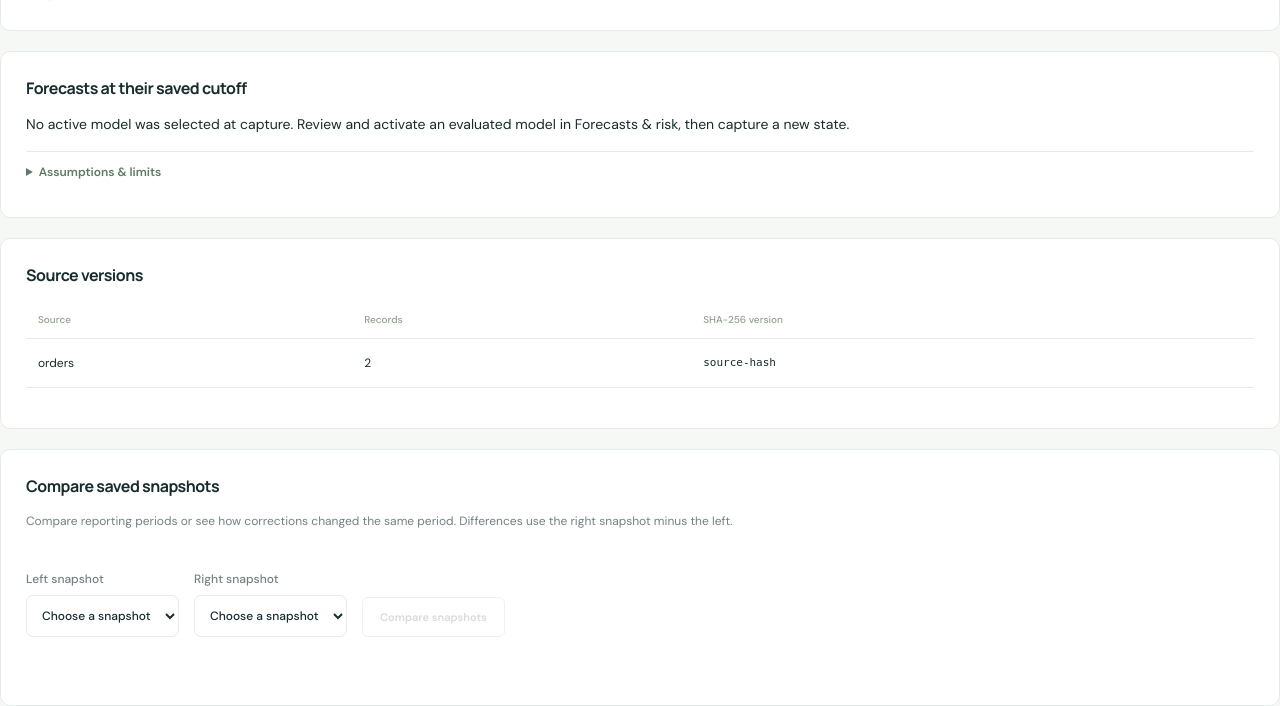
it: Digital twin › compares saved snapshots and labels unequal periods
(page scrolled)
Select "October review" in the dropdown labelled "Left snapshot" at (102, 616), box [26, 595, 179, 637]
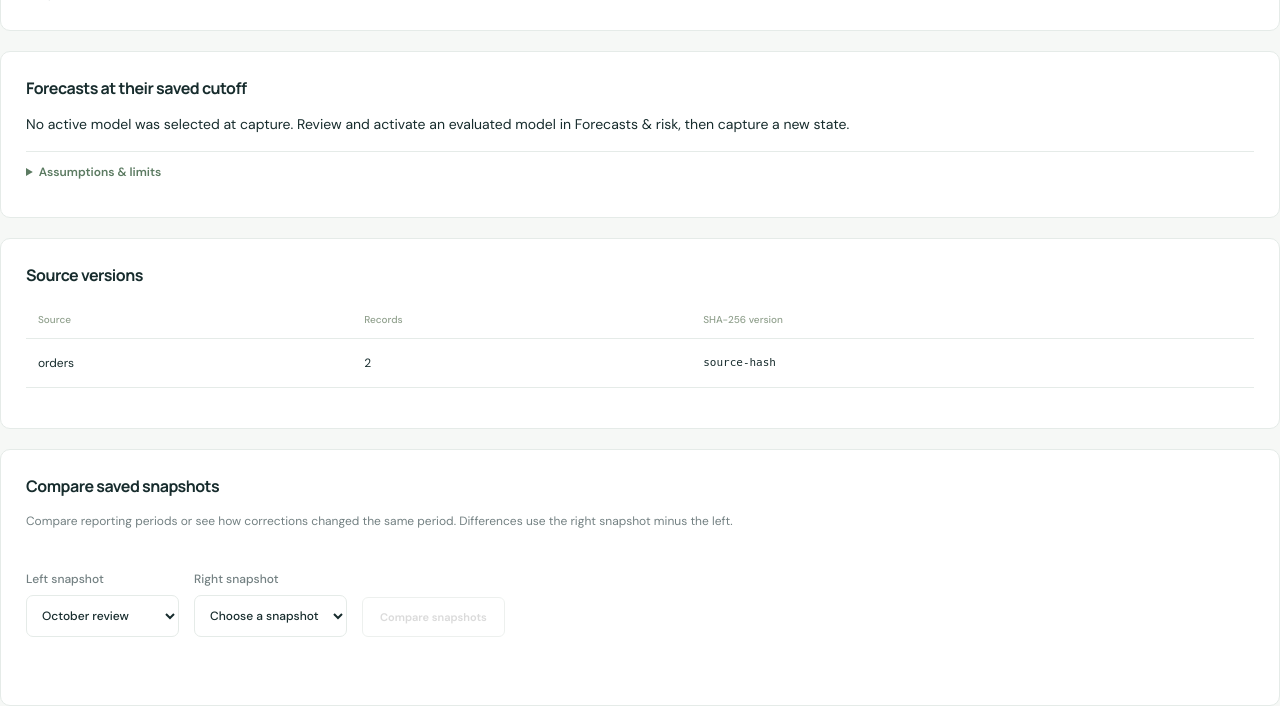
Select "Next review" in the dropdown labelled "Right snapshot" at (270, 616), box [194, 595, 347, 637]
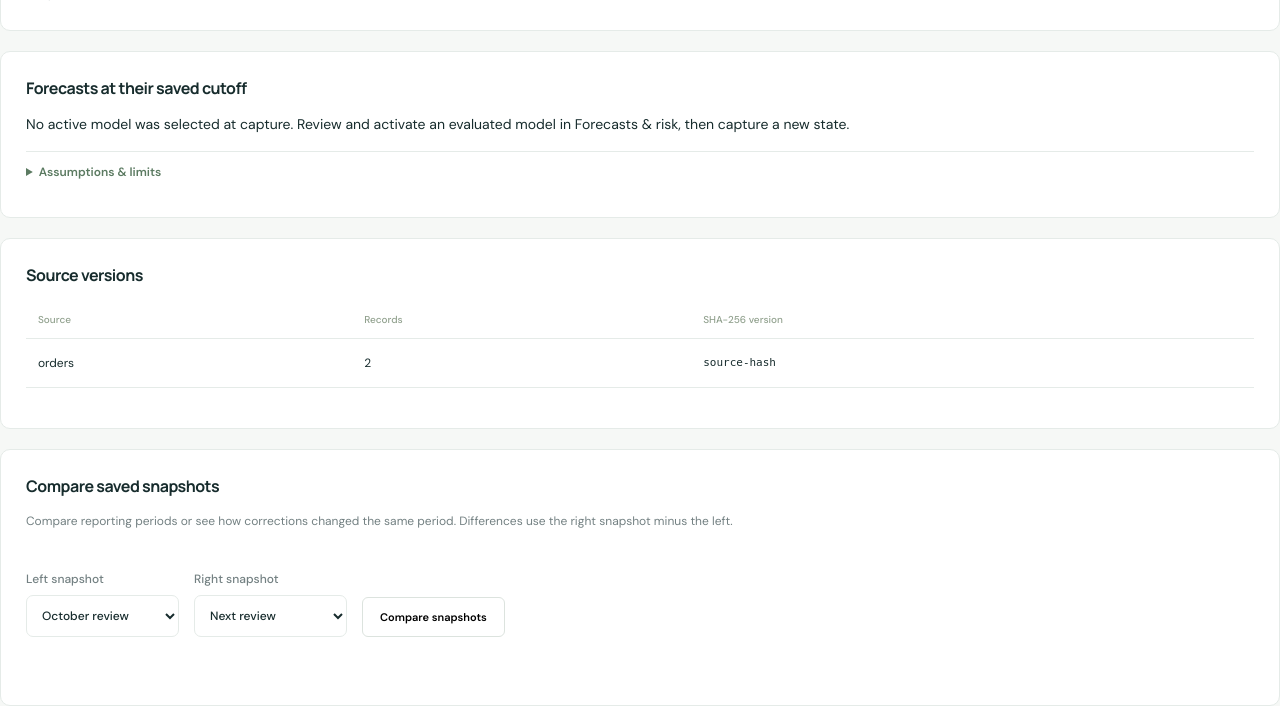
Click the button "Compare snapshots" at (433, 617), box [362, 597, 505, 637]
(page scrolled)
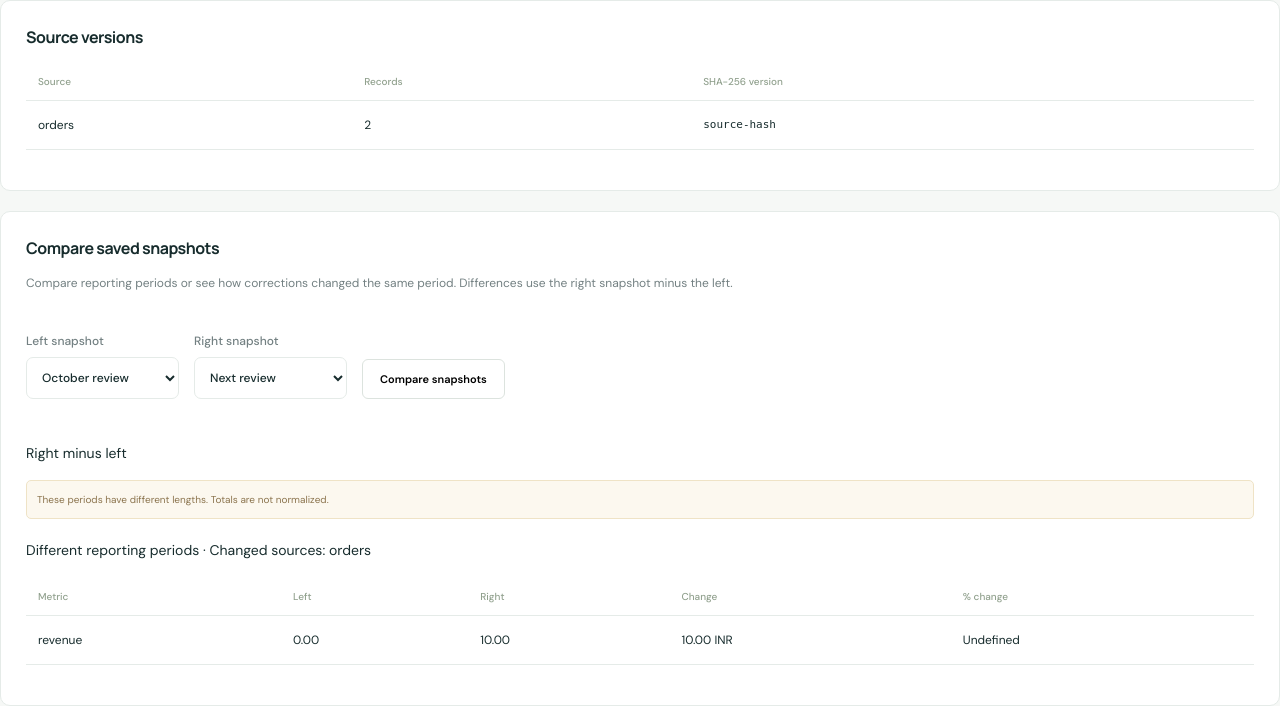
Expected: the text "These periods have different lengths" is shown, [37, 493, 329, 506]
Expected: the text "Undefined" is shown, [951, 615, 1254, 664]
